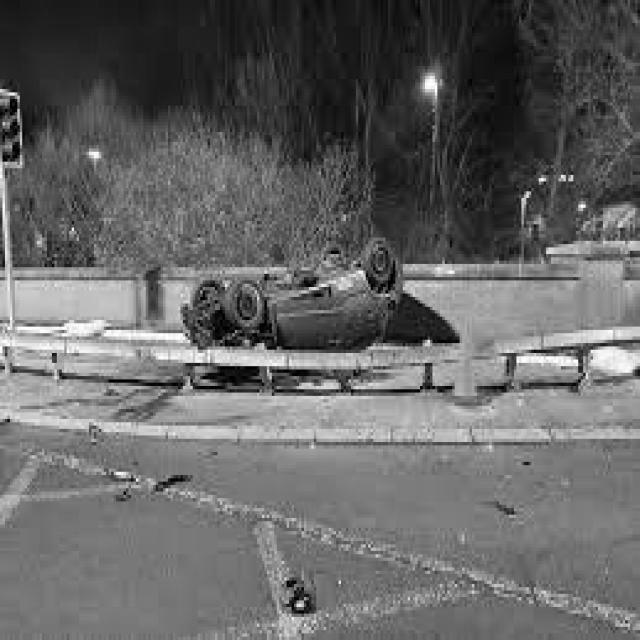accident: (182, 238, 407, 354)
